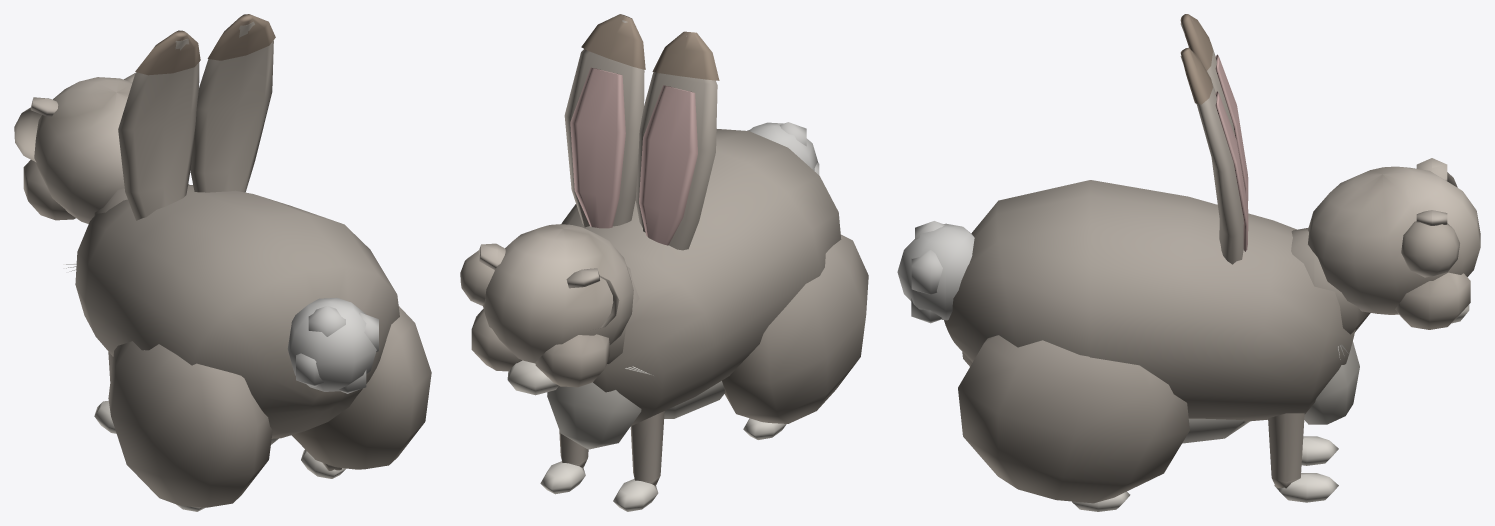
The model's file is rabbit.glb.
The picture shows the model from 3 angles, left to right: view 1: azimuth 30°, elevation 25°; view 2: azimuth 150°, elevation 25°; view 3: azimuth 270°, elevation 25°; orthographic projection. The views are drawn at different scales.
Visible parts, largest first — view 1: body, head, ear_l, ear_r, lower_2; view 2: body, head, ear_l, ear_r, leg_1, lower_1, lower_0, leg_0, lower_3; view 3: body, head, ear_r, ear_l, leg_0, lower_0, lower_1.
Part boxes in pixels (x1,y1,x2,y2): body: [75, 184, 431, 507]; head: [14, 72, 136, 223]; ear_l: [118, 30, 200, 220]; ear_r: [190, 14, 275, 192]; lower_2: [301, 449, 346, 478]; body: [547, 122, 868, 449]; head: [460, 224, 633, 395]; ear_l: [635, 31, 719, 250]; ear_r: [564, 14, 645, 228]; leg_1: [630, 411, 664, 485]; lower_1: [613, 479, 658, 511]; lower_0: [540, 461, 585, 494]; leg_0: [559, 430, 588, 467]; lower_3: [743, 418, 786, 439]; body: [897, 180, 1370, 503]; head: [1308, 158, 1480, 329]; ear_r: [1180, 47, 1248, 264]; ear_l: [1180, 14, 1248, 205]; leg_0: [1268, 413, 1304, 488]; lower_0: [1274, 473, 1338, 502]; lower_1: [1301, 436, 1338, 465].
Bounding box in the file's own units: 0.2565 × 0.3877 × 0.456.
